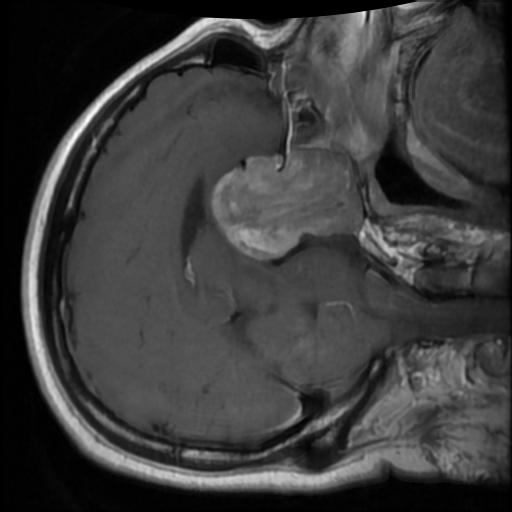pituitary tumour: (215, 152, 362, 259)
